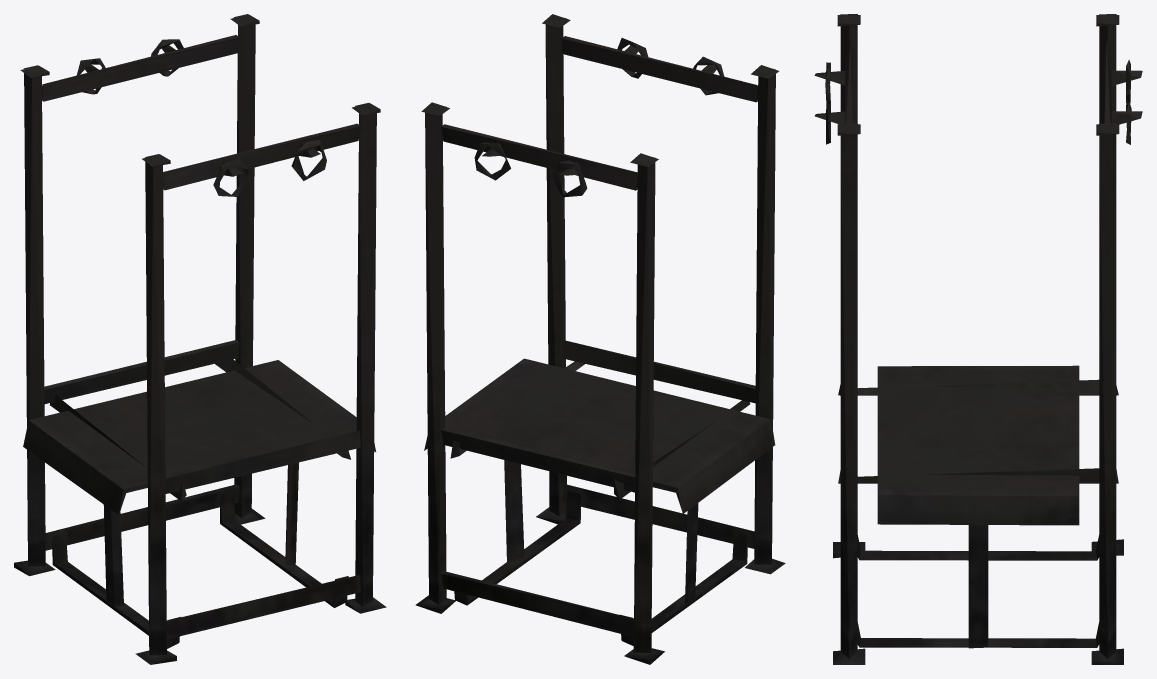
The model's file is fireplace-tools-b.lod1.glb.
3 views of the same model, side by side, from view 1: azimuth 30°, elevation 25°; view 2: azimuth 150°, elevation 25°; view 3: azimuth 270°, elevation 25° (orthographic). The views are drawn at different scales.
Parts seen in each view (by area): view 1: fireplace-tools-b; view 2: fireplace-tools-b; view 3: fireplace-tools-b.
Boxes of the visible parts, <box> form: fireplace-tools-b: <box>14,14,386,664</box>; fireplace-tools-b: <box>415,14,785,664</box>; fireplace-tools-b: <box>814,14,1142,664</box>.
Size of the model in its own units: 0.4067 by 0.7463 by 0.4163.
1 material, 1 textured.
